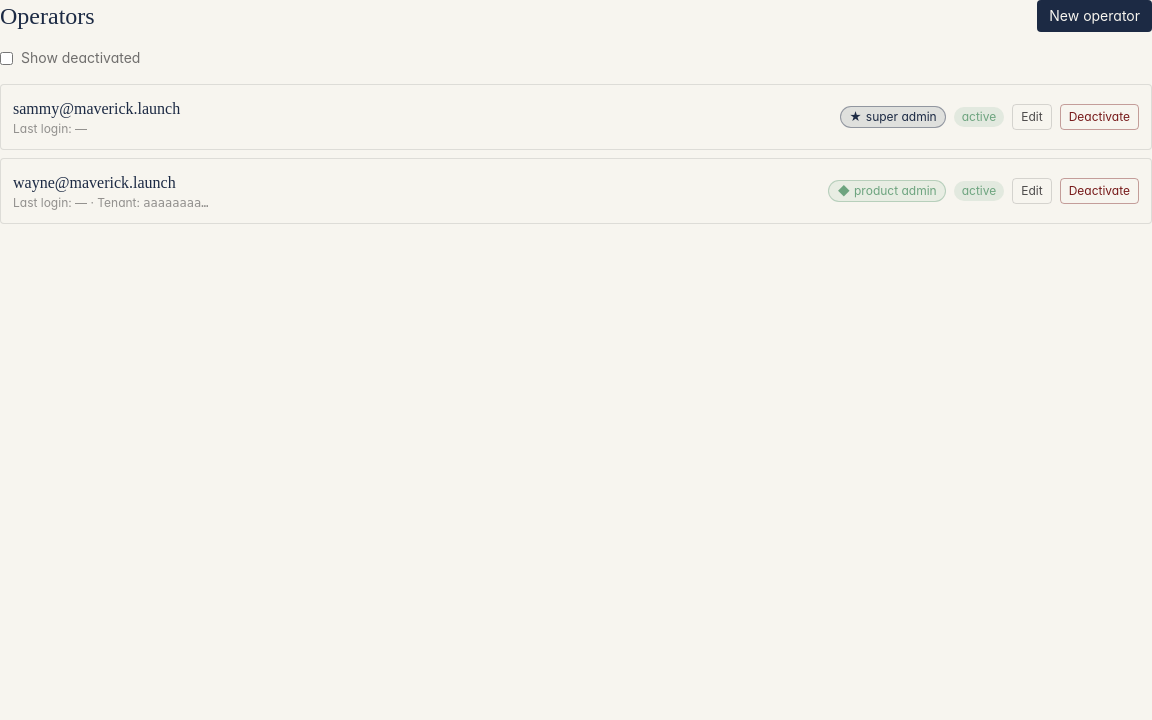
Test: OperatorsManager (HUB-1663) › New Operator modal › rejects a submit without email + shows the tenant_id field only for product_admin
Expected: the element with test id "operators-manager-page" is shown, 0,0 -> 1151,224
Click the button with test id "operators-manager-new": click(1095, 16) 1037,0 -> 1151,32
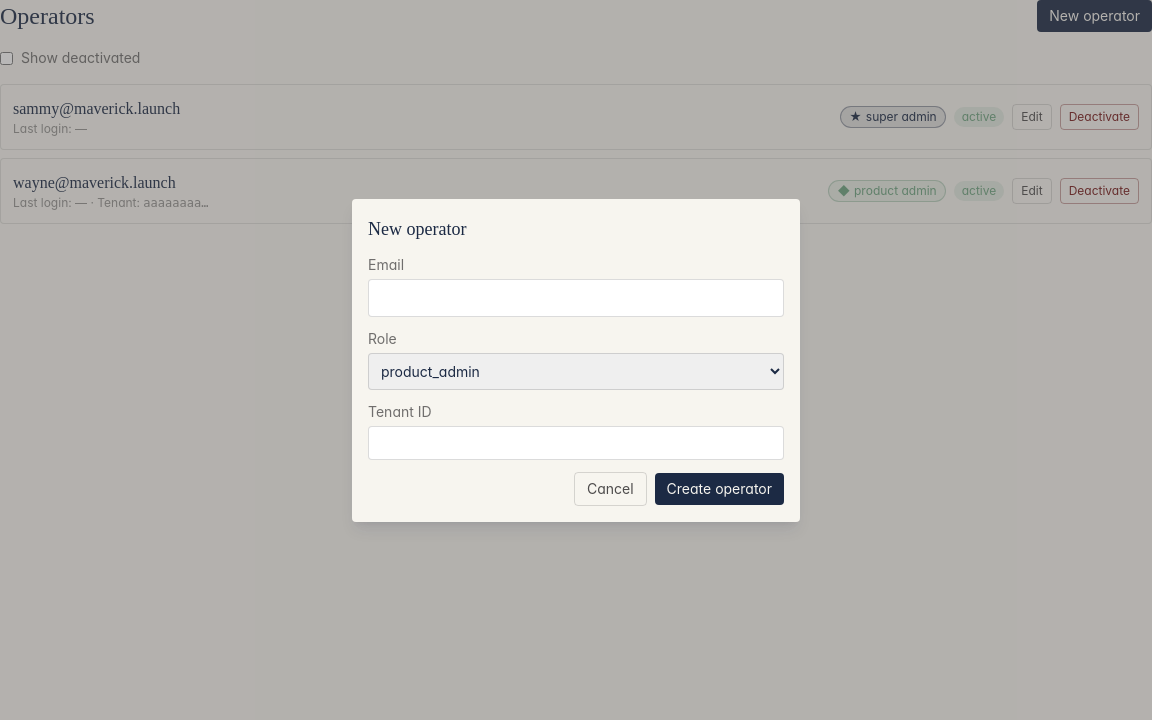
Expected: the field with test id "new-operator-tenant-id" is shown, 368,426 -> 784,460
Click the button with test id "new-operator-submit": click(719, 488) 655,472 -> 784,504
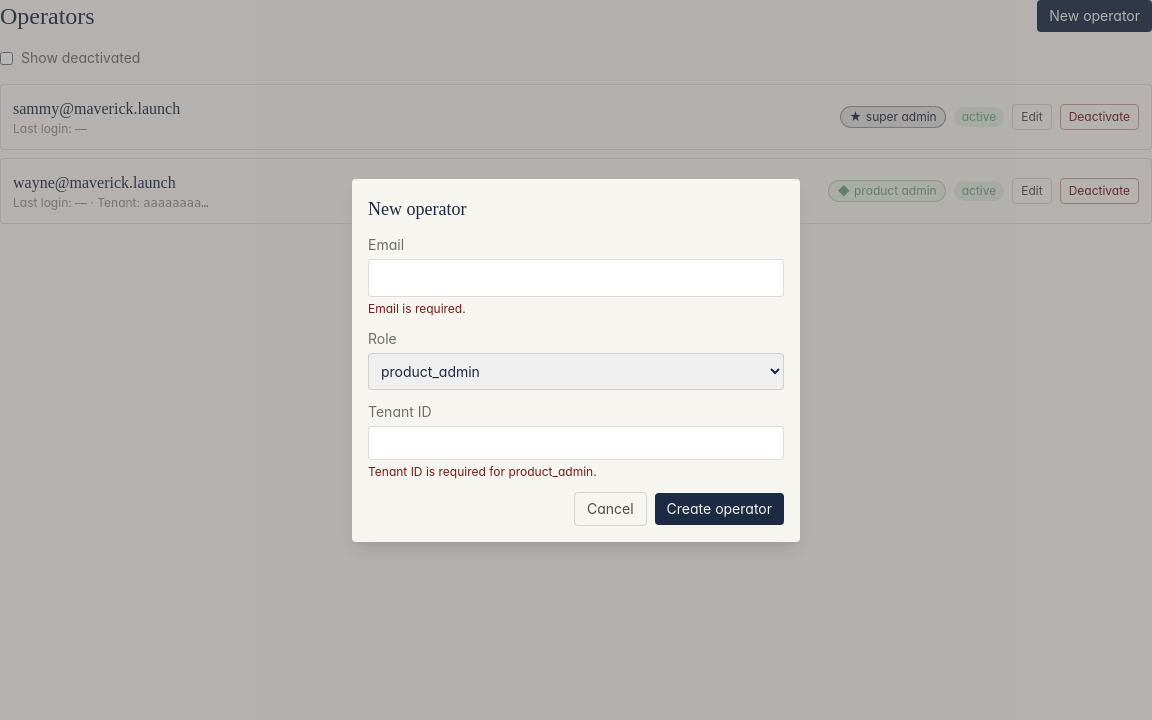
Expected: the text "Email is required." is shown, 368,300 -> 466,316
Expected: the text "Tenant ID is required for product_admin." is shown, 368,464 -> 597,478
// Switch to super_admin — tenant_id hidden.
Select "super_admin" in the dropdown with test id "new-operator-role": (576, 371) 368,352 -> 784,390
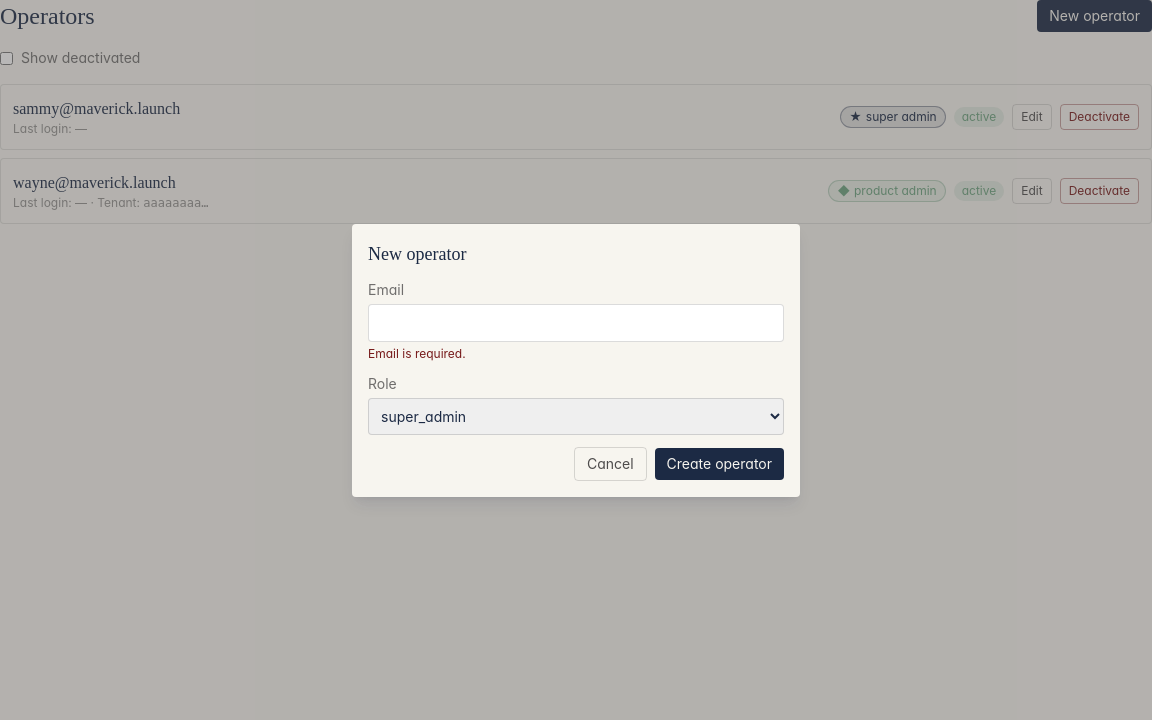
Expected: the field with test id "new-operator-tenant-id" is gone
